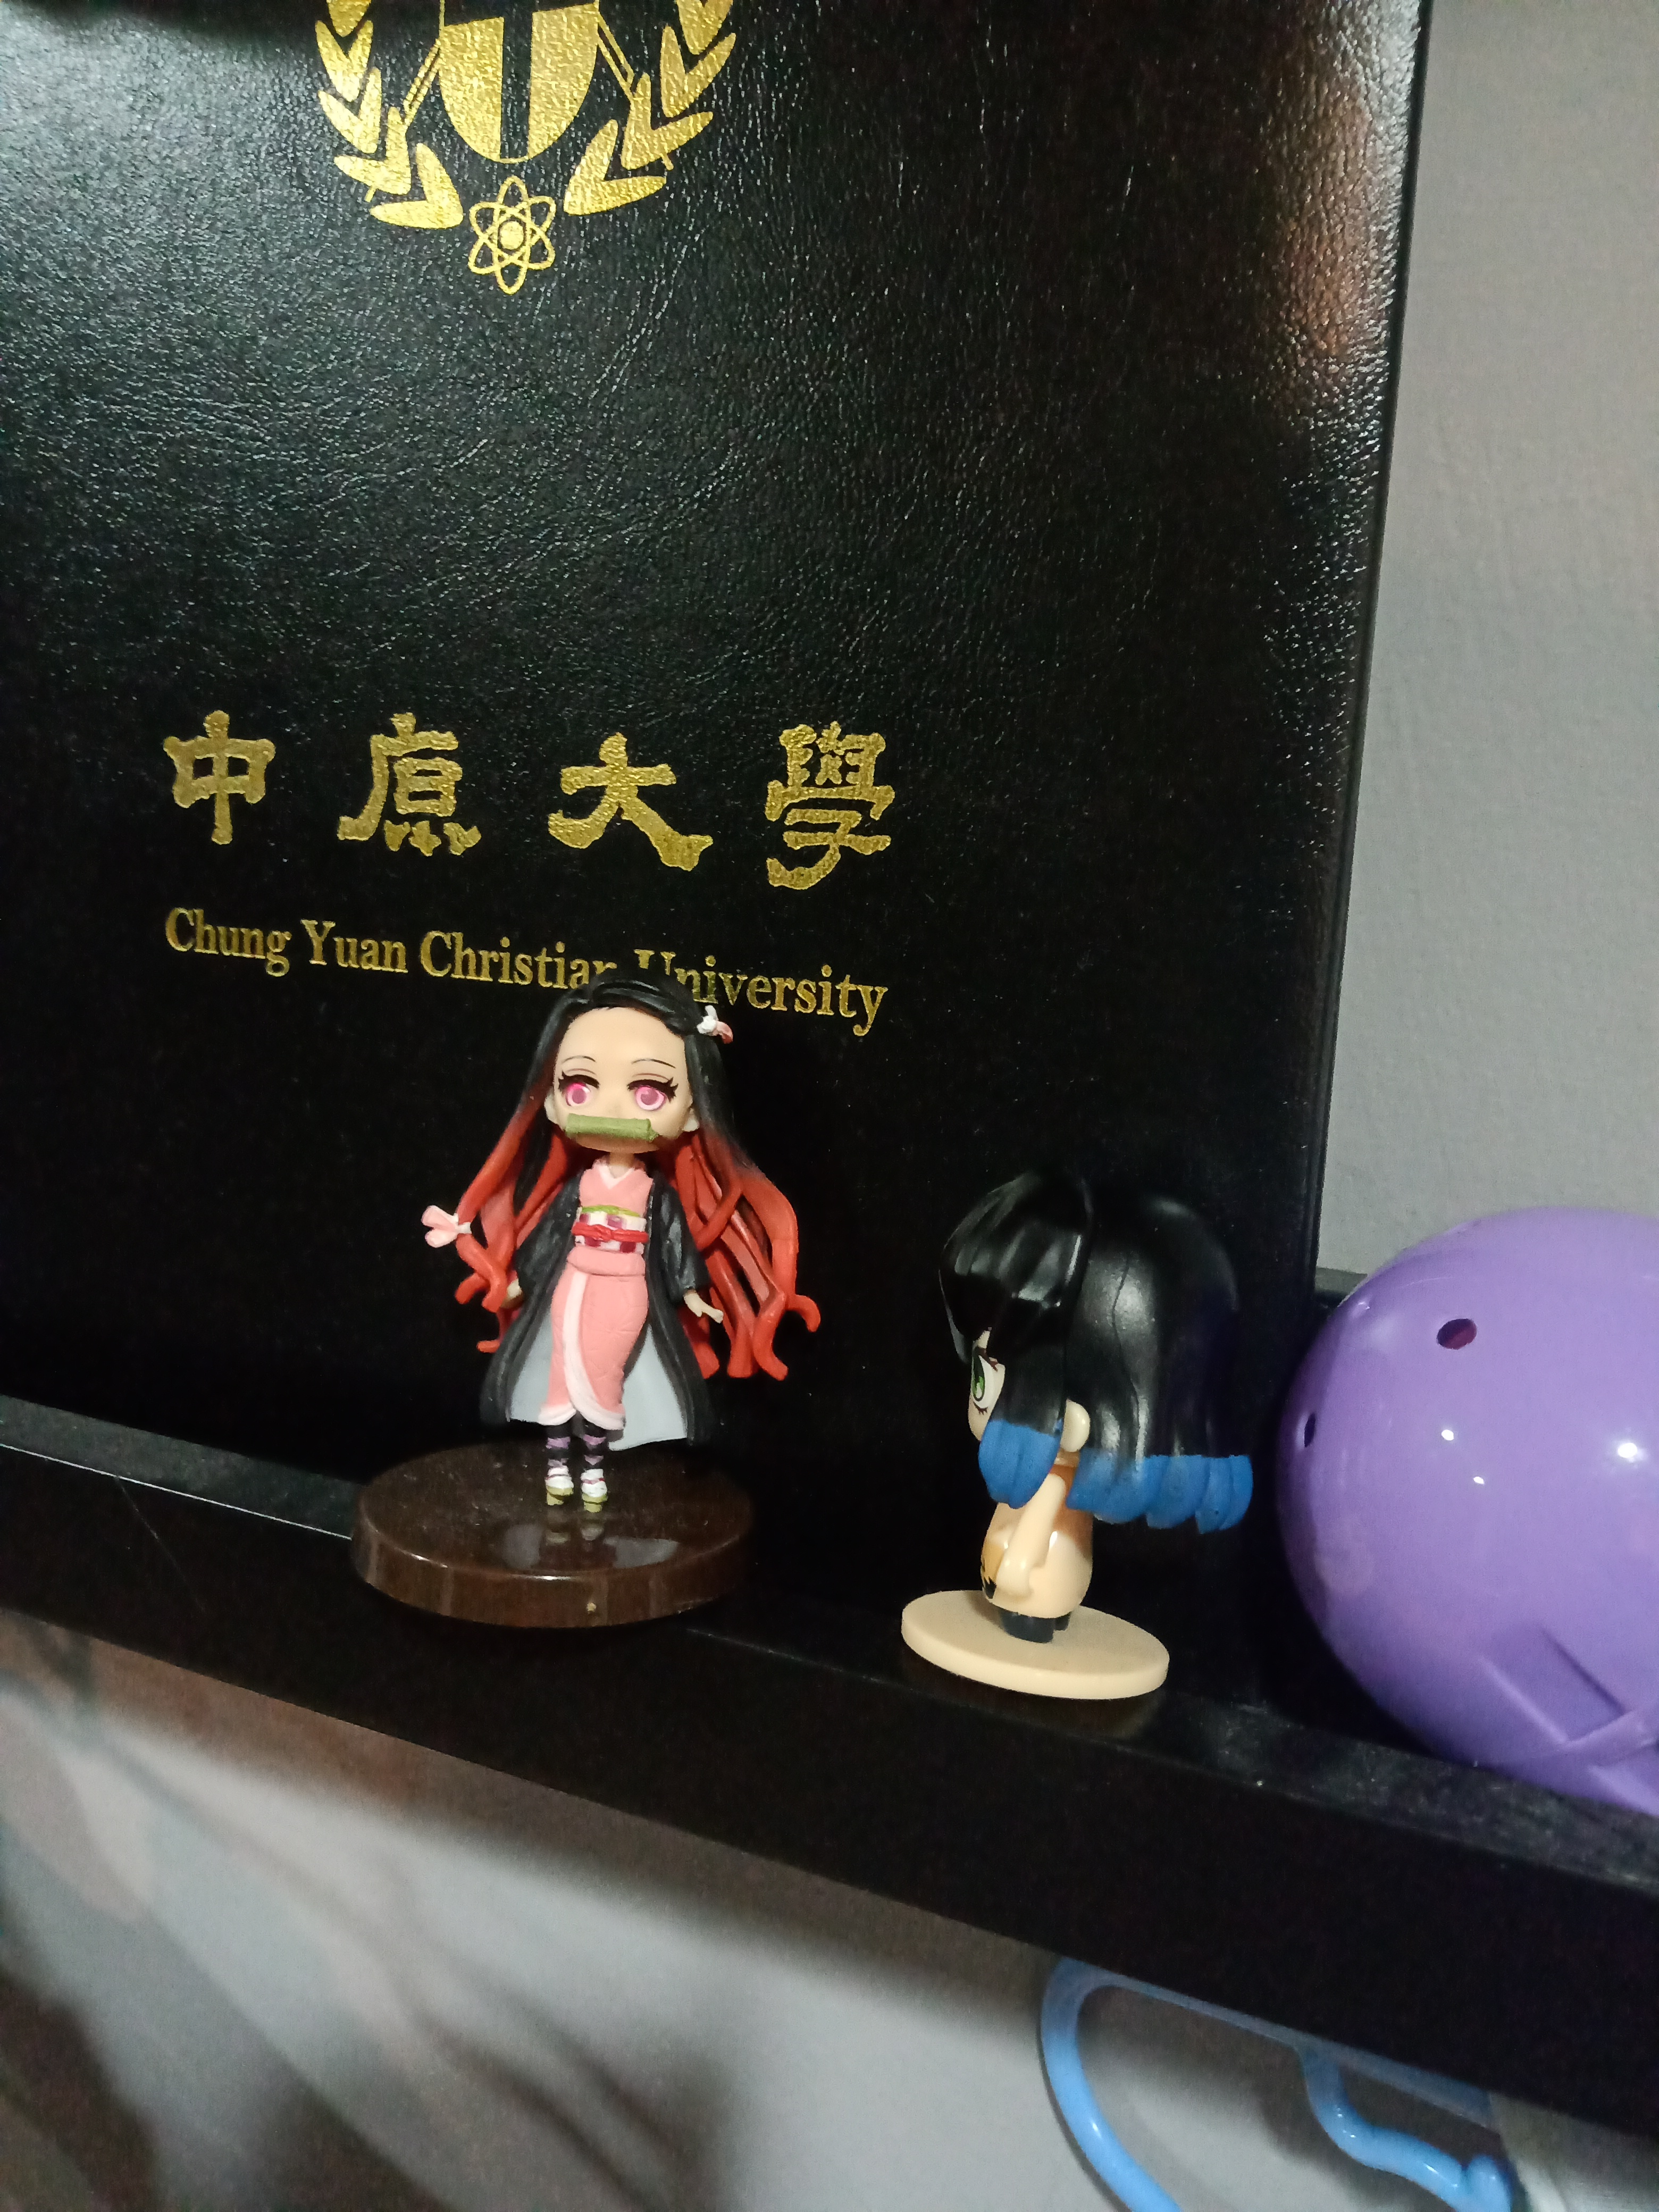Inosuke: (873, 1136, 1279, 1731)
Nezuko: (359, 953, 836, 1635)
